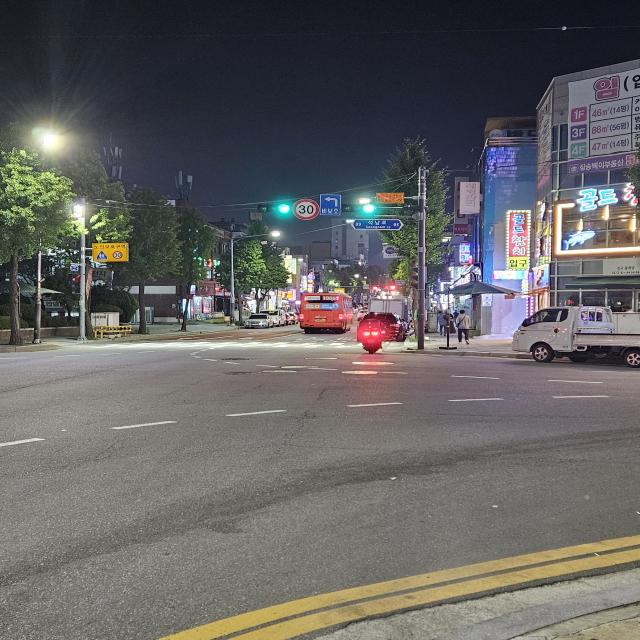Green Light: (278, 204, 290, 213), (363, 204, 375, 213)
